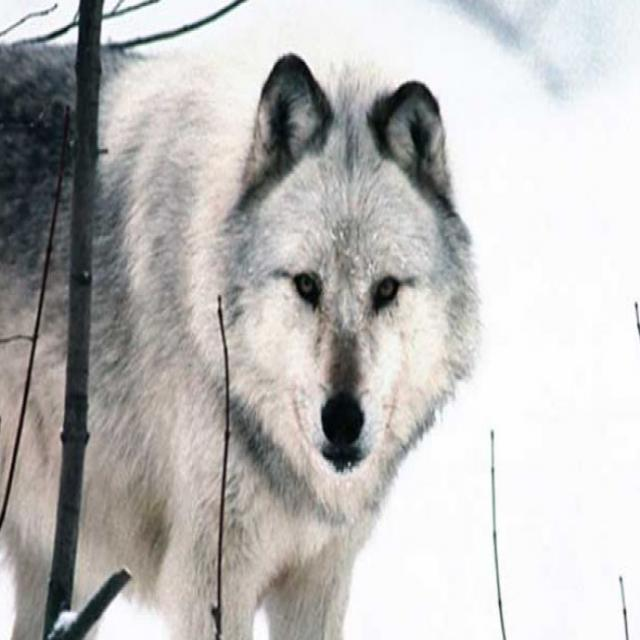wolf: (0, 0, 532, 640)
